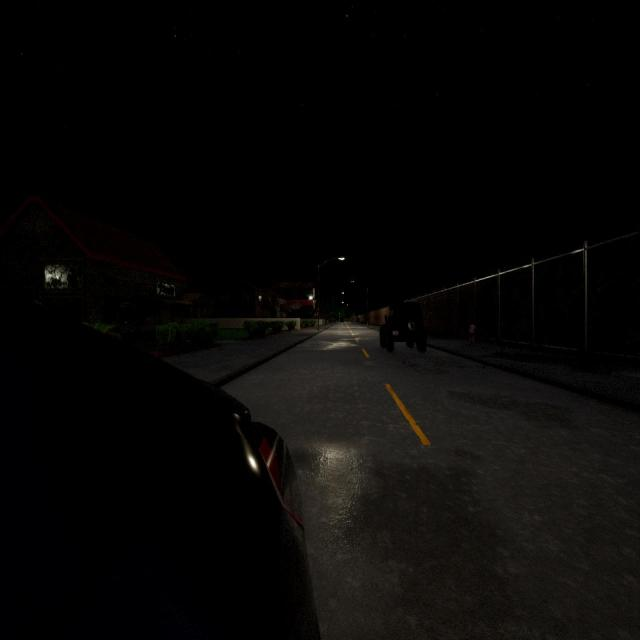Pedestrian: (468, 320, 475, 347)
Vehicle: (0, 289, 319, 637), (379, 302, 429, 353)
